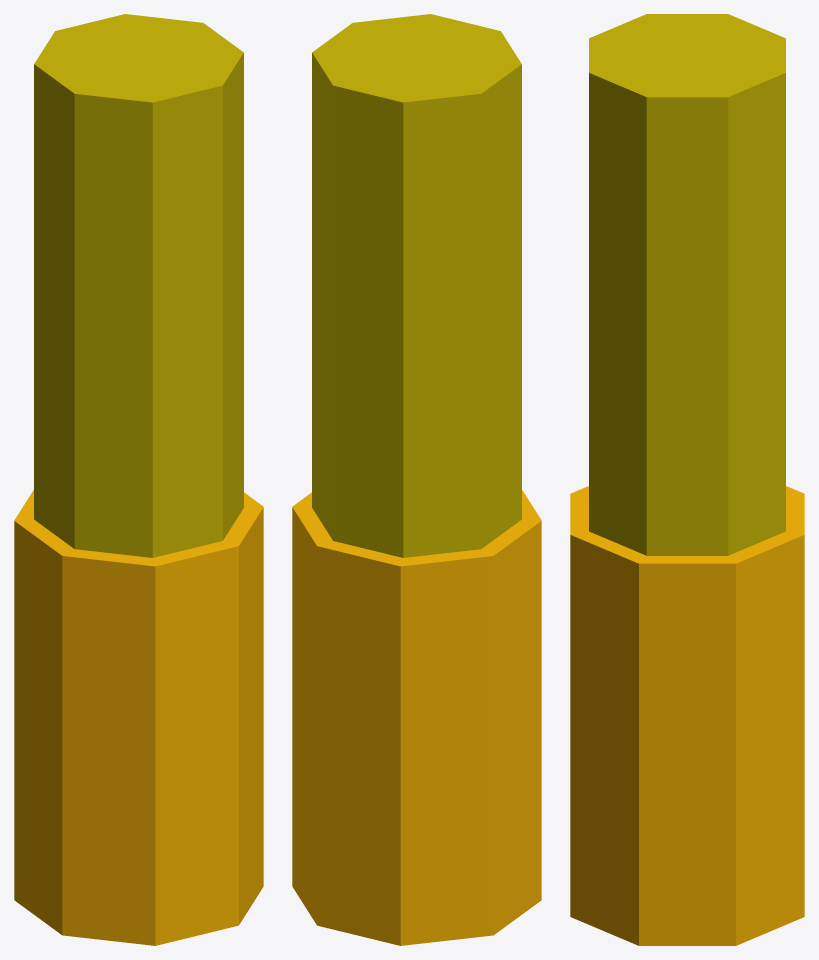
The model's file is mpe_driveshaft_telescopic_small_a.dae.
3 renders of one model, left to right at view 1: azimuth 30°, elevation 25°; view 2: azimuth 150°, elevation 25°; view 3: azimuth 270°, elevation 25°, orthographic.
Parts seen in each view (by area): view 1: driveshaft_telescopic_a; view 2: driveshaft_telescopic_a; view 3: driveshaft_telescopic_a.
Boxes of the visible parts, x1,y1,x2,y2 form: driveshaft_telescopic_a: (14,14,263,945); driveshaft_telescopic_a: (292,14,541,945); driveshaft_telescopic_a: (570,14,804,945).
Bounding box in the file's own units: 0.125 × 0.125 × 0.495.
